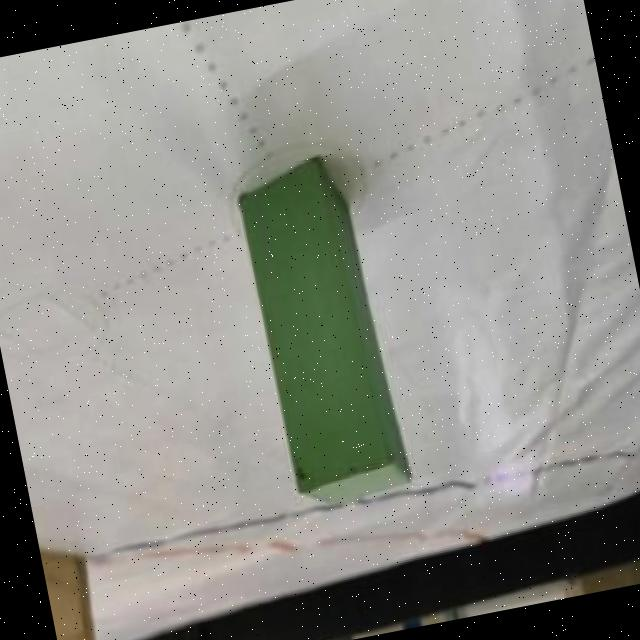greenbox: (226, 147, 415, 518)
